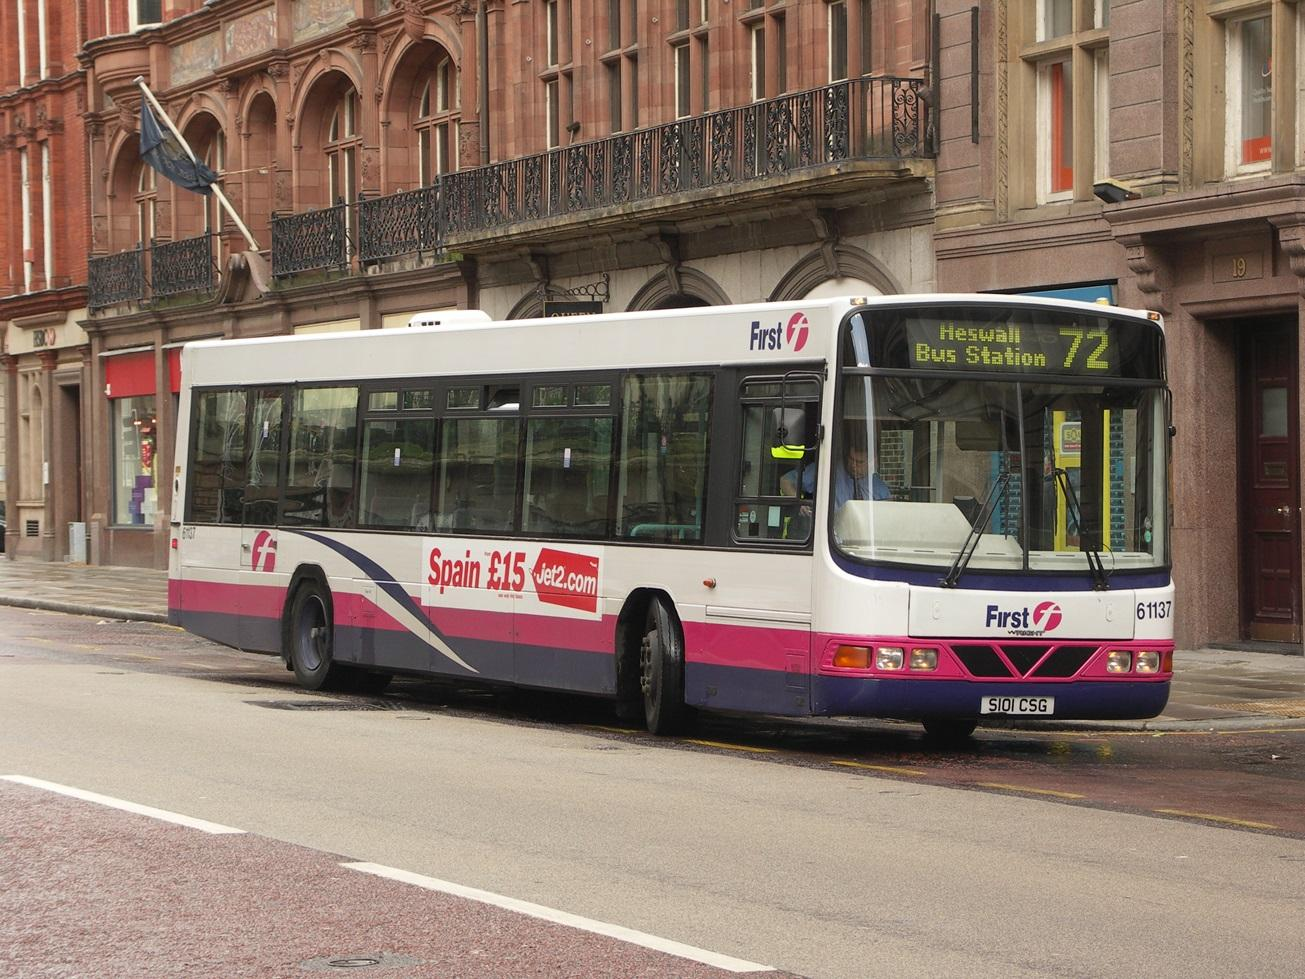bus: (165, 291, 1189, 754)
